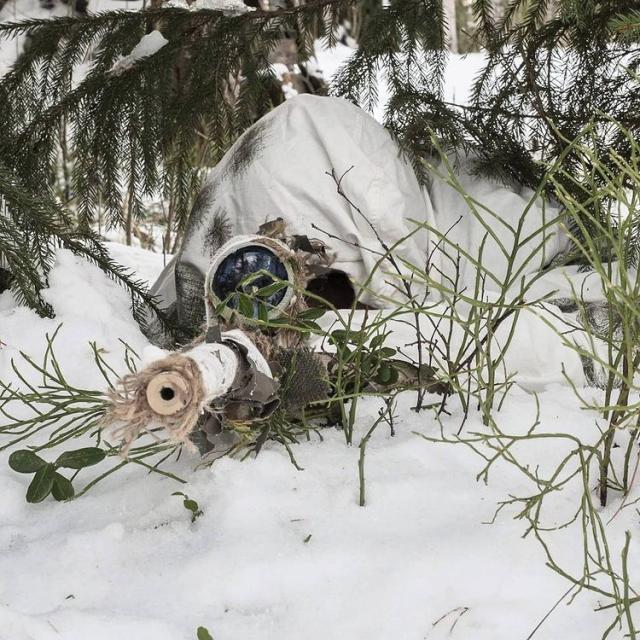Camouflage: (136, 94, 460, 443)
